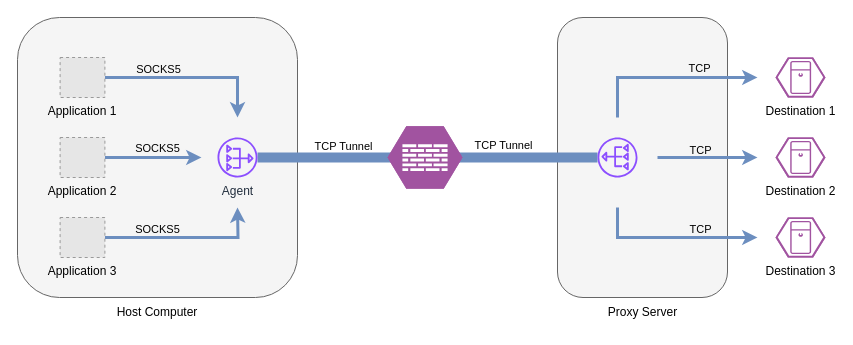
Image size: 853x345. Some labels were removed from this diagram. Grey dashed boxes stand in for pictures. Here are the shapes that lost their labels. From the top down, the centre of each, then its label:
At (x=424, y=157): "Firewall".
At (x=617, y=157): "Server".
